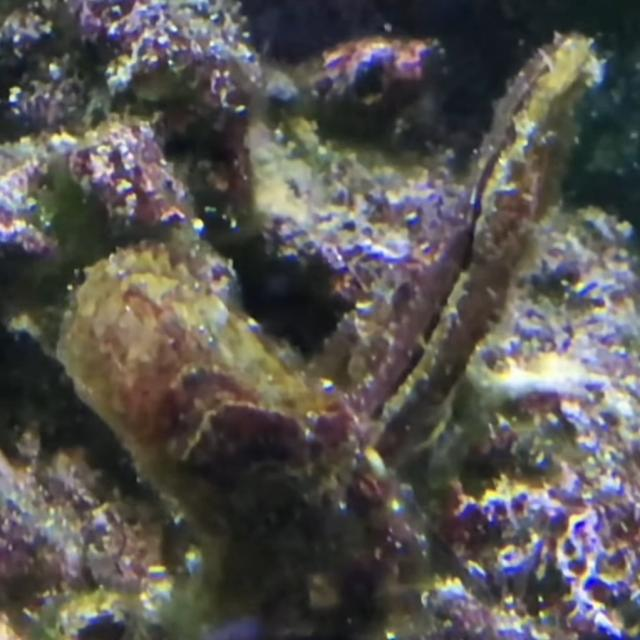Oyster-Closed: (318, 32, 608, 476)
Oyster-Indeterminate: (58, 246, 396, 604)
